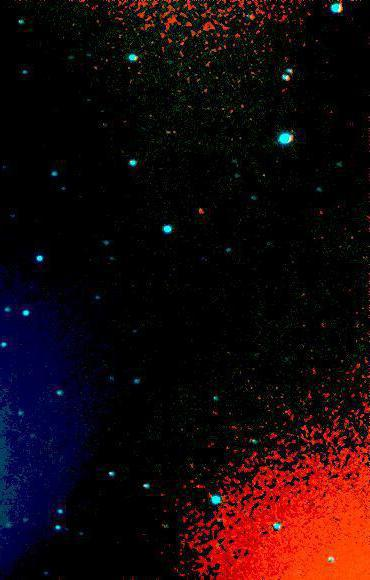star: (185, 194, 215, 224)
